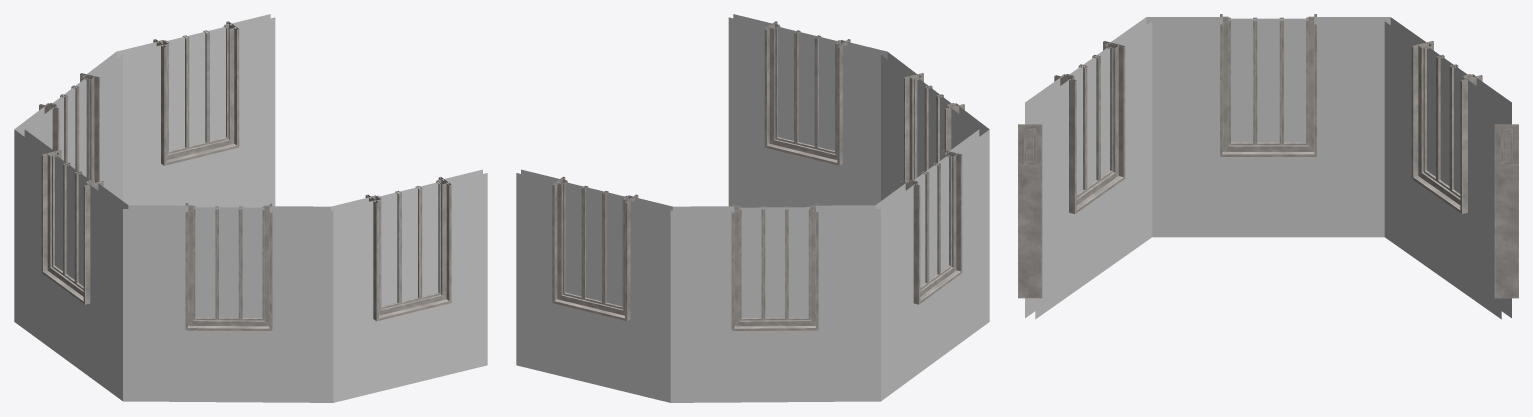
The model's file is Ambulatory_Inner_C_F.fbx.
The picture shows the model from 3 angles, left to right: view 1: azimuth 30°, elevation 25°; view 2: azimuth 150°, elevation 25°; view 3: azimuth 270°, elevation 25°; orthographic projection. The views are drawn at different scales.
Parts seen in each view (by area): view 1: Ambulatory_Inner_C_F; view 2: Ambulatory_Inner_C_F; view 3: Ambulatory_Inner_C_F.
Part boxes in pixels (x1,y1,x2,y2): Ambulatory_Inner_C_F: (14,14,487,402); Ambulatory_Inner_C_F: (516,14,989,402); Ambulatory_Inner_C_F: (1018,14,1518,319).
Bounding box in the file's own units: 10.31 × 12.61 × 6.
